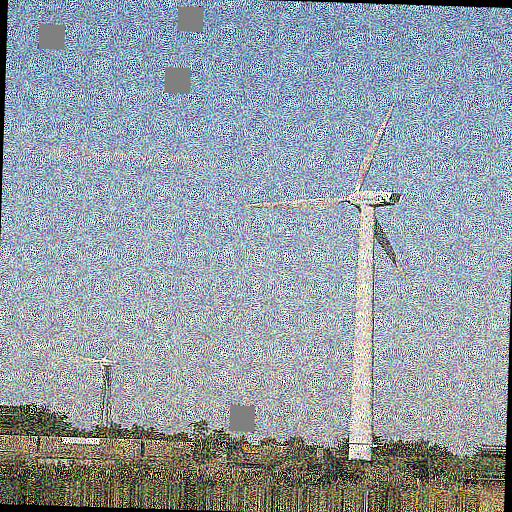wind turbine: (247, 100, 403, 441)
